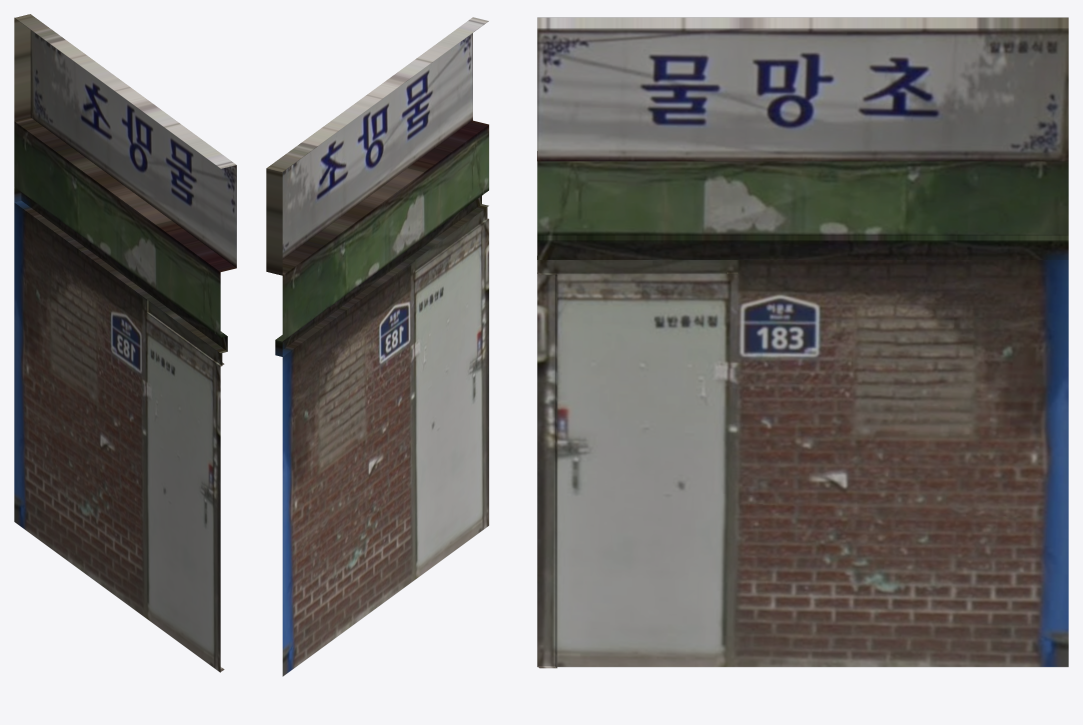
The model's file is store1.glb.
The picture shows the model from 3 angles, left to right: view 1: azimuth 30°, elevation 25°; view 2: azimuth 150°, elevation 25°; view 3: azimuth 270°, elevation 25°; orthographic projection. The views are drawn at different scales.
Parts seen in each view (by area): view 1: Screenshot 2023-10-01 at 10.46.09 PM; view 2: Screenshot 2023-10-01 at 10.46.09 PM; view 3: Screenshot 2023-10-01 at 10.46.09 PM.
Part boxes in pixels (box(x1,y1,x2,y2)): Screenshot 2023-10-01 at 10.46.09 PM: box(14, 14, 236, 672); Screenshot 2023-10-01 at 10.46.09 PM: box(266, 17, 489, 676); Screenshot 2023-10-01 at 10.46.09 PM: box(537, 17, 1068, 668).
Size of the model in its own units: 0.0313 by 1 by 0.7093.
1 material, 1 textured.
